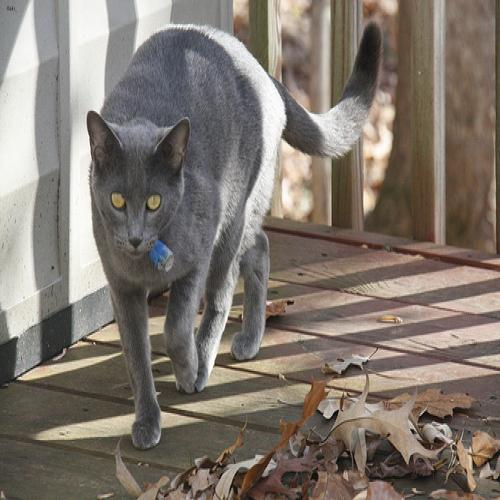rblue: (83, 104, 190, 271)
